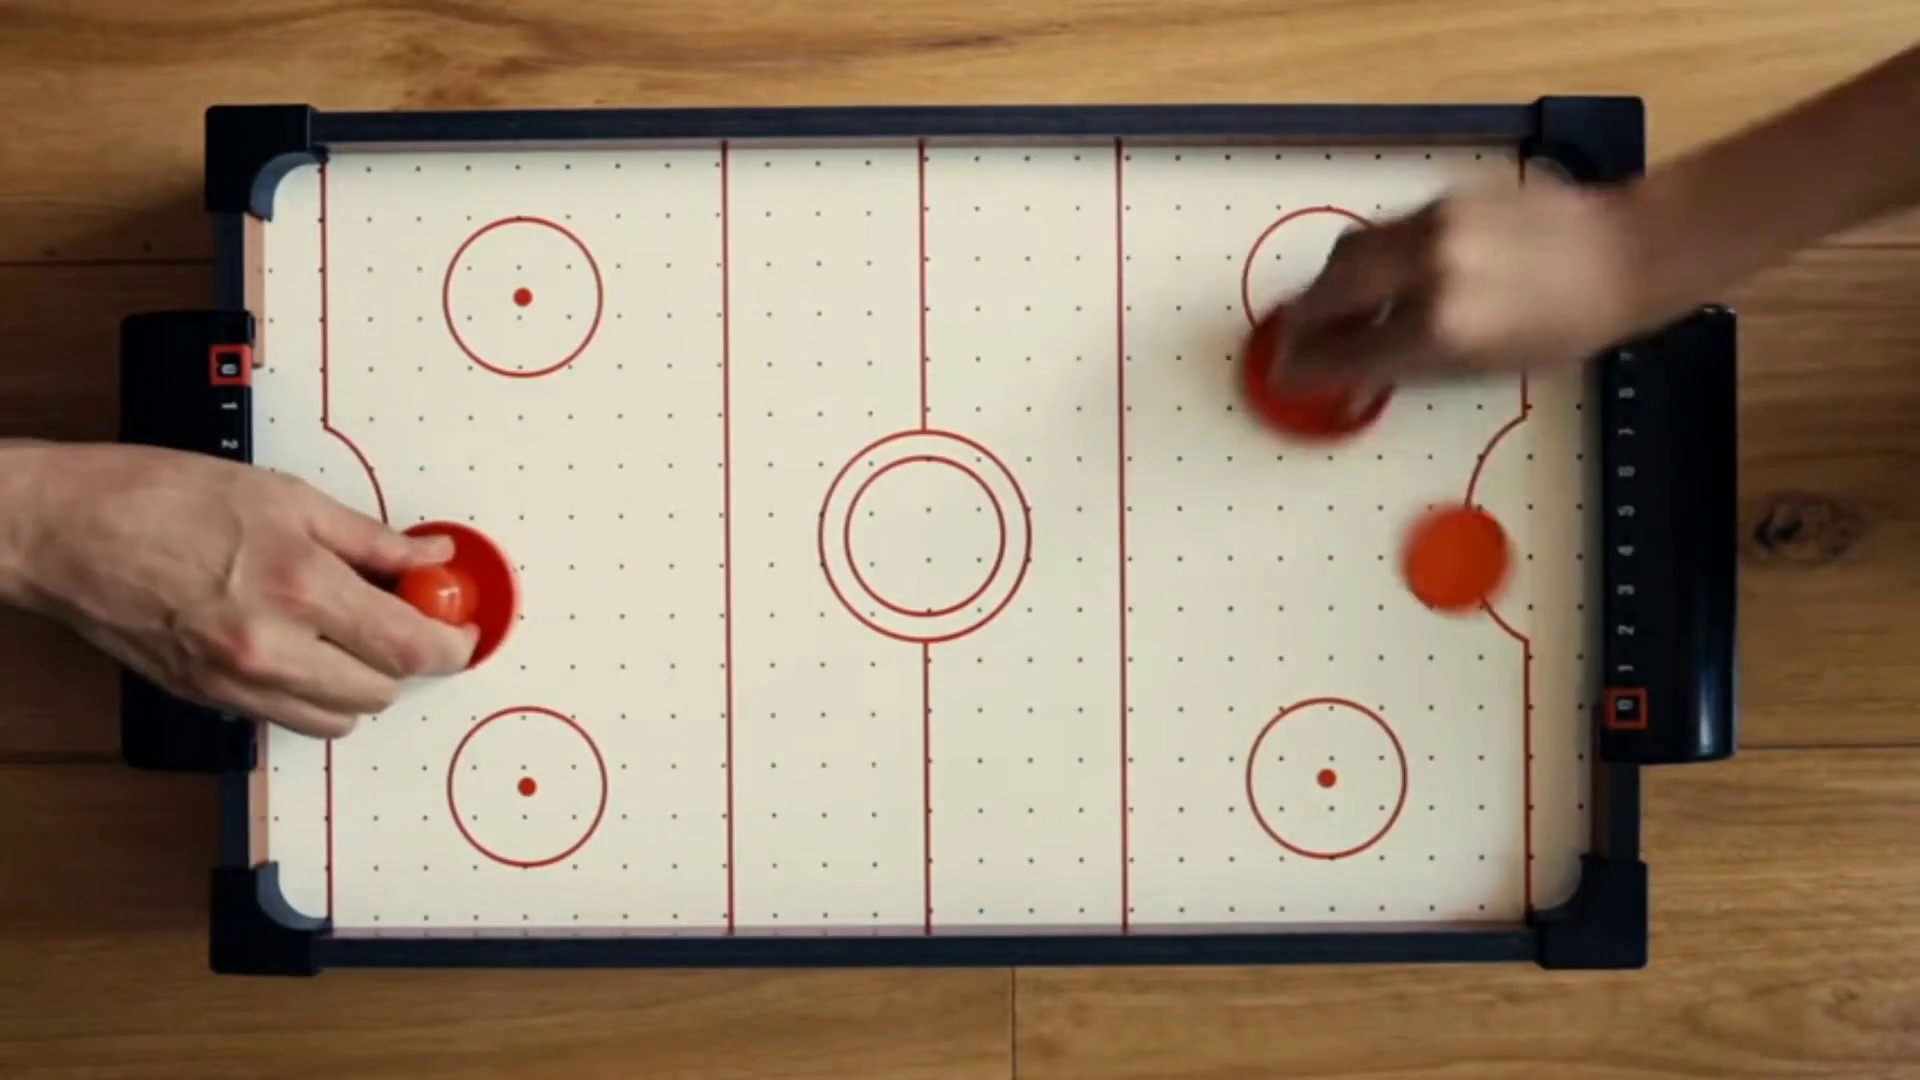player1: (357, 523, 521, 680)
player2: (1248, 302, 1388, 445)
puck: (1402, 501, 1505, 612)
table: (261, 144, 1588, 926)
